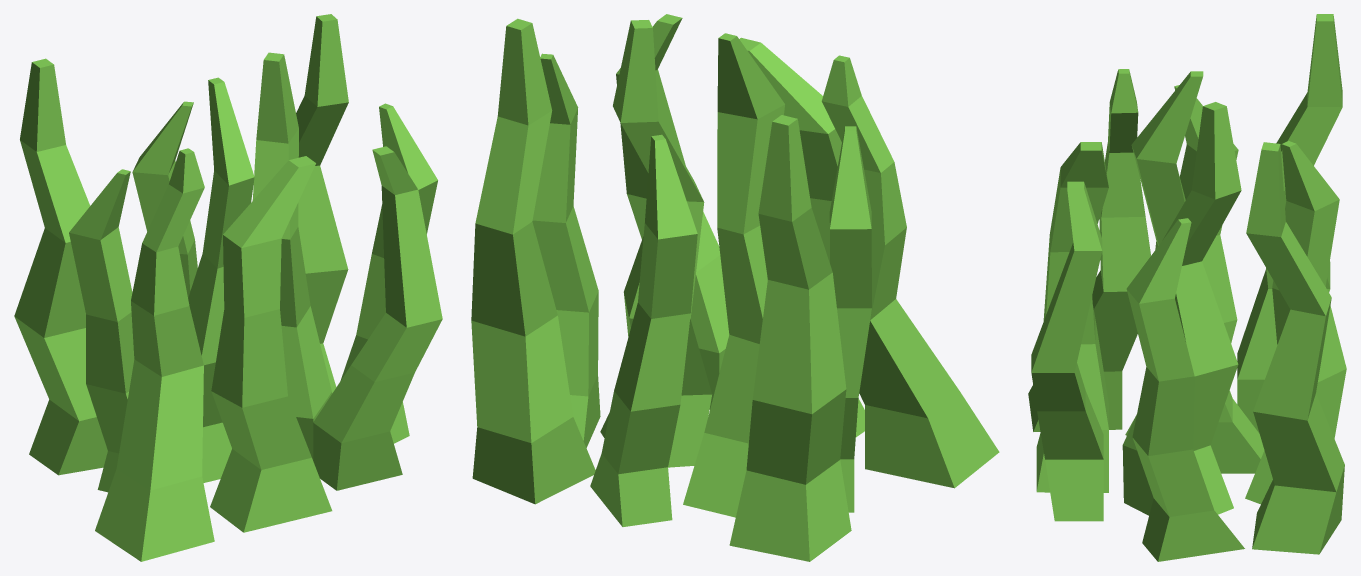
The model's file is Grass.fbx.
3 renders of one model, left to right at view 1: azimuth 30°, elevation 25°; view 2: azimuth 150°, elevation 25°; view 3: azimuth 270°, elevation 25°, orthographic. The views are drawn at different scales.
Visible parts, largest first — view 1: Cube.007, Cube.006, Cube.003, Cube.005, Cube.001, Cube.004, Cube.009, Cube, Cube.008, Cube.002; view 2: Cube.009, Cube.003, Cube.007, Cube.002, Cube, Cube.008, Cube.004, Cube.001, Cube.005, Cube.006; view 3: Cube.009, Cube.008, Cube.004, Cube.005, Cube.007, Cube.003, Cube, Cube.002, Cube.006, Cube.001.
Boxes of the visible parts, x1,y1,x2,y2 form: Cube.007: [95, 148, 214, 561]; Cube.006: [210, 156, 332, 532]; Cube.003: [14, 58, 107, 475]; Cube.005: [313, 146, 442, 490]; Cube.001: [69, 169, 134, 492]; Cube.004: [252, 52, 332, 460]; Cube.009: [296, 14, 348, 392]; Cube: [188, 77, 254, 482]; Cube.008: [340, 103, 437, 443]; Cube.002: [132, 101, 197, 297]; Cube.009: [471, 18, 595, 504]; Cube.003: [729, 115, 851, 561]; Cube.007: [821, 55, 999, 488]; Cube.002: [590, 134, 697, 526]; Cube: [683, 33, 784, 517]; Cube.008: [532, 53, 600, 447]; Cube.004: [600, 20, 712, 467]; Cube.001: [829, 126, 871, 512]; Cube.005: [616, 14, 729, 409]; Cube.006: [739, 37, 864, 437]; Cube.009: [1246, 142, 1344, 554]; Cube.008: [1126, 218, 1244, 561]; Cube.004: [1122, 102, 1241, 515]; Cube.005: [1031, 181, 1103, 521]; Cube.007: [1028, 69, 1150, 431]; Cube.003: [1237, 14, 1342, 433]; Cube: [1131, 71, 1264, 473]; Cube.002: [1245, 141, 1346, 504]; Cube.006: [1036, 142, 1108, 492]; Cube.001: [1125, 85, 1238, 435].
Bounding box in the file's own units: 20.68 × 21.56 × 15.5.
